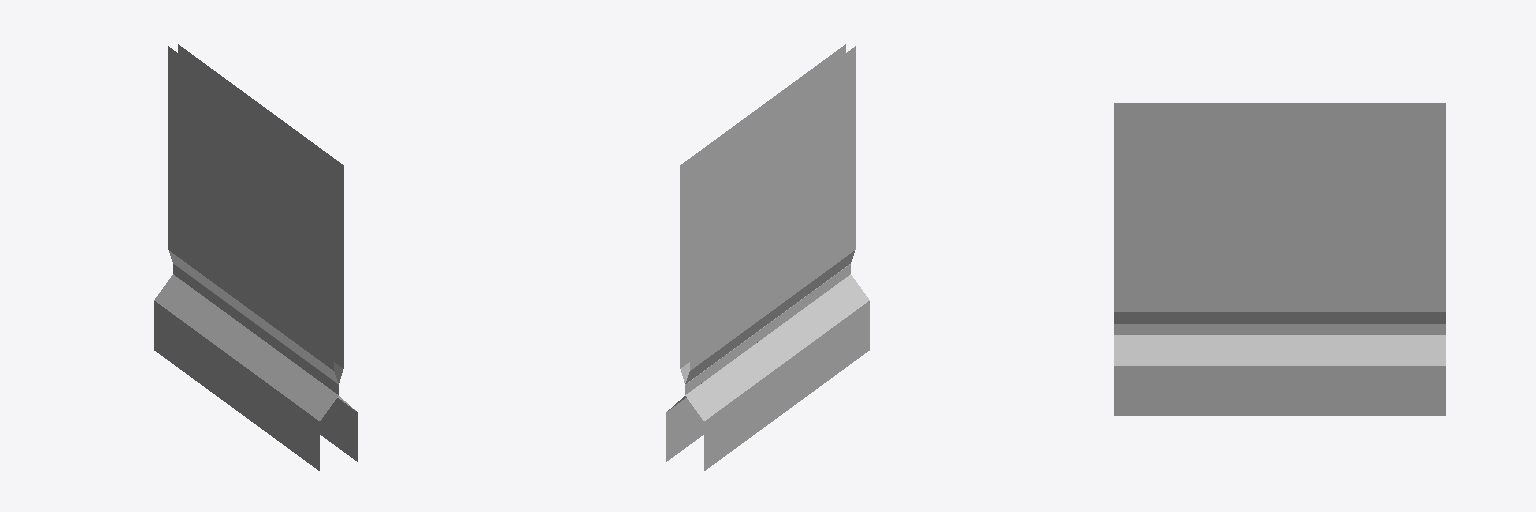
Rendered from SciFi_Wall2.obj.
The picture shows the model from 3 angles: view 1: azimuth 30°, elevation 25°; view 2: azimuth 150°, elevation 25°; view 3: azimuth 270°, elevation 25°; orthographic projection.
Parts seen in each view (by area): view 1: Plane.011_Plane.000_Plane.011_Plane.003, Plane.011_Plane.002; view 2: Plane.011_Plane.000_Plane.011_Plane.003, Plane.011_Plane.002; view 3: Plane.011_Plane.002, Plane.011_Plane.000_Plane.011_Plane.003.
Boxes of the visible parts, <box> form: Plane.011_Plane.000_Plane.011_Plane.003: <box>154,46,338,470</box>; Plane.011_Plane.002: <box>173,44,357,461</box>; Plane.011_Plane.000_Plane.011_Plane.003: <box>685,46,869,470</box>; Plane.011_Plane.002: <box>666,44,850,461</box>; Plane.011_Plane.002: <box>1114,108,1445,415</box>; Plane.011_Plane.000_Plane.011_Plane.003: <box>1114,103,1445,334</box>.
Size of the model in its own units: 0.2645 by 2 by 2.